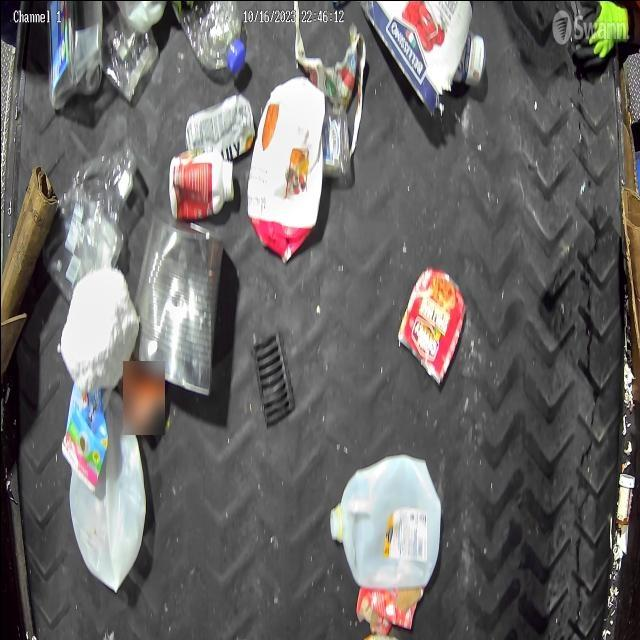milk_jug: (70, 397, 148, 589), (330, 453, 440, 588)
non_white_jug: (248, 72, 326, 260), (51, 145, 132, 290)
plastic_bottle: (170, 1, 248, 76)
